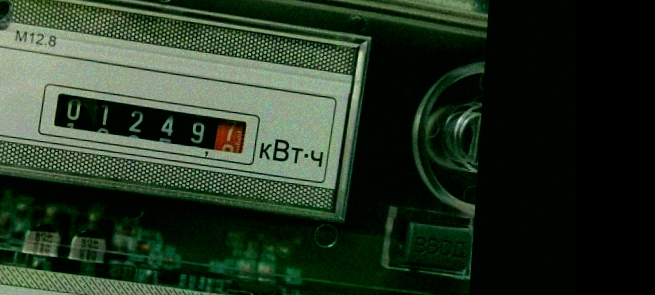0: (64, 95, 83, 122)
1: (96, 100, 111, 127)
2: (125, 108, 144, 135)
4: (158, 111, 176, 137)
7: (222, 117, 238, 144)
9: (187, 118, 205, 145)
screen: (35, 81, 263, 169)
